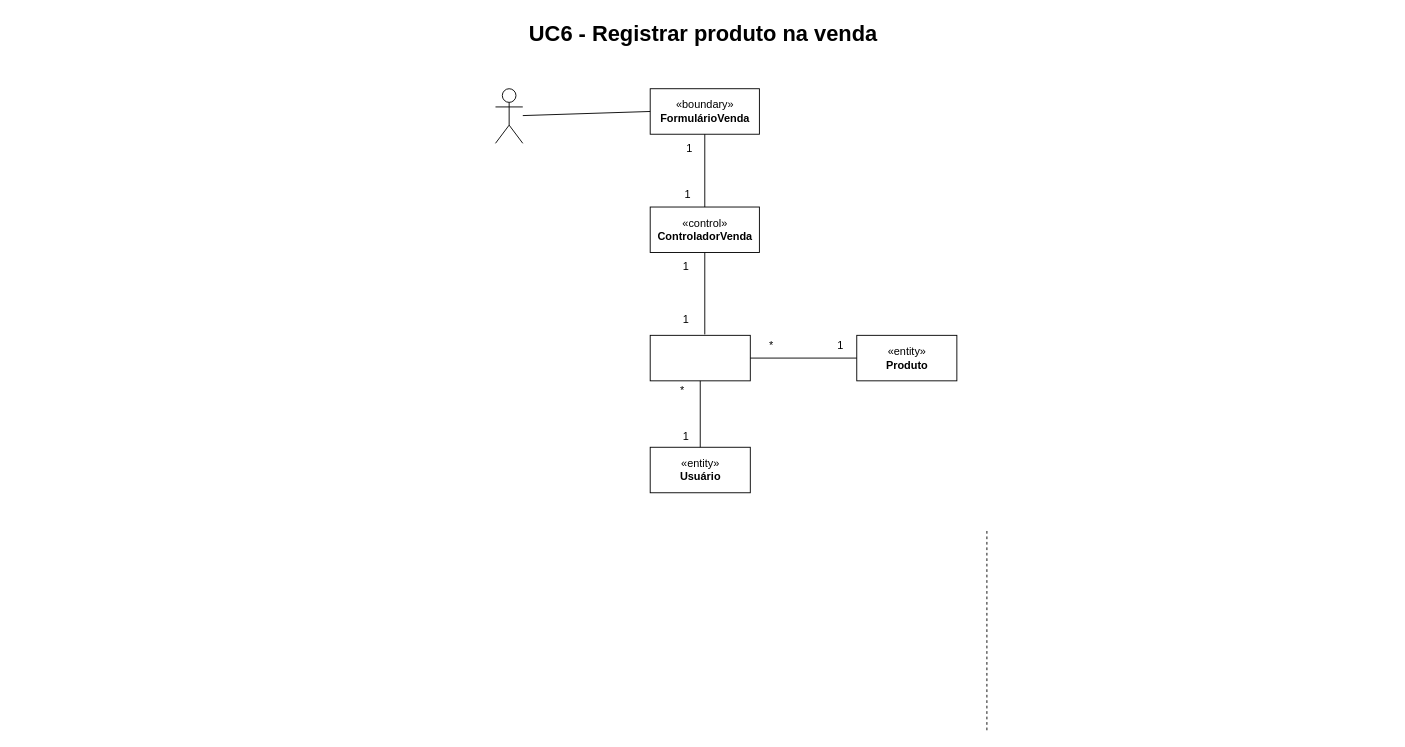
Some shapes in this 1405 by 747 pixel diagram are drawn without their labels. Each missing label, with the centre of its shape:
Operador do caixa: [509,115]
«entity» Venda: [699,357]
